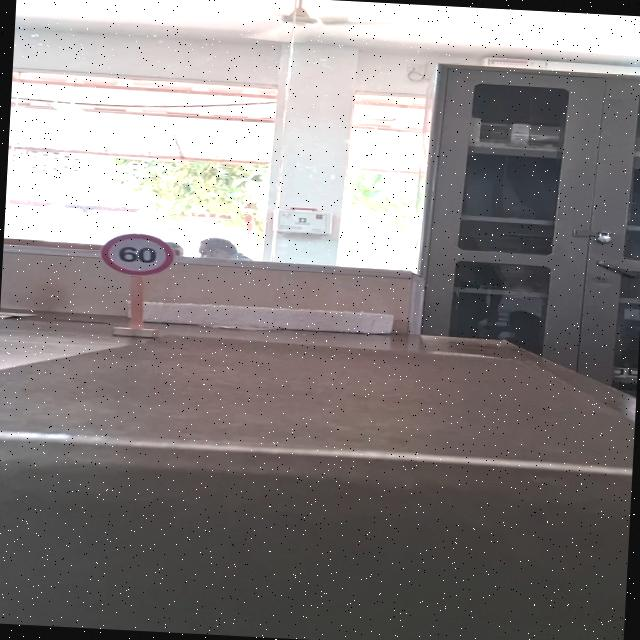Speed60: (97, 230, 177, 280)
